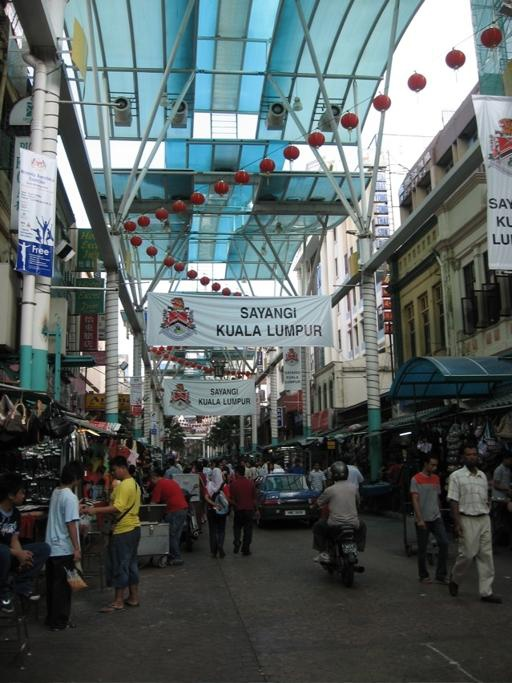non-vehicle: (309, 502, 365, 588), (178, 482, 199, 552)
